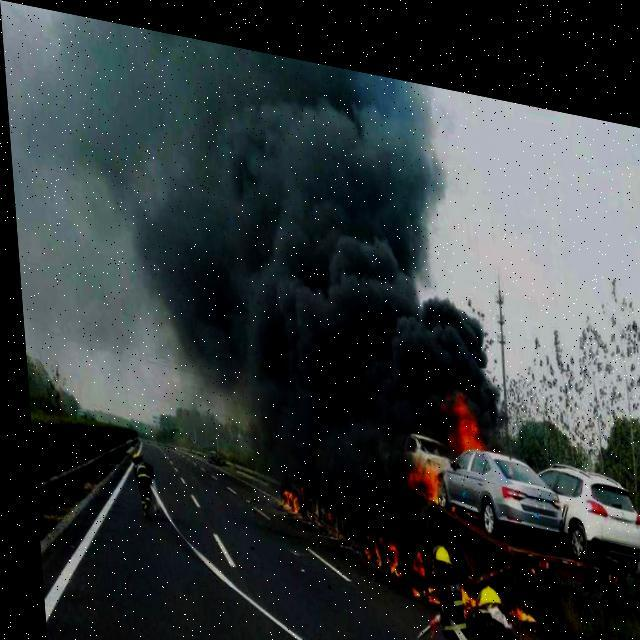Fire: (270, 462, 447, 596), (396, 361, 490, 493), (499, 580, 528, 612)
